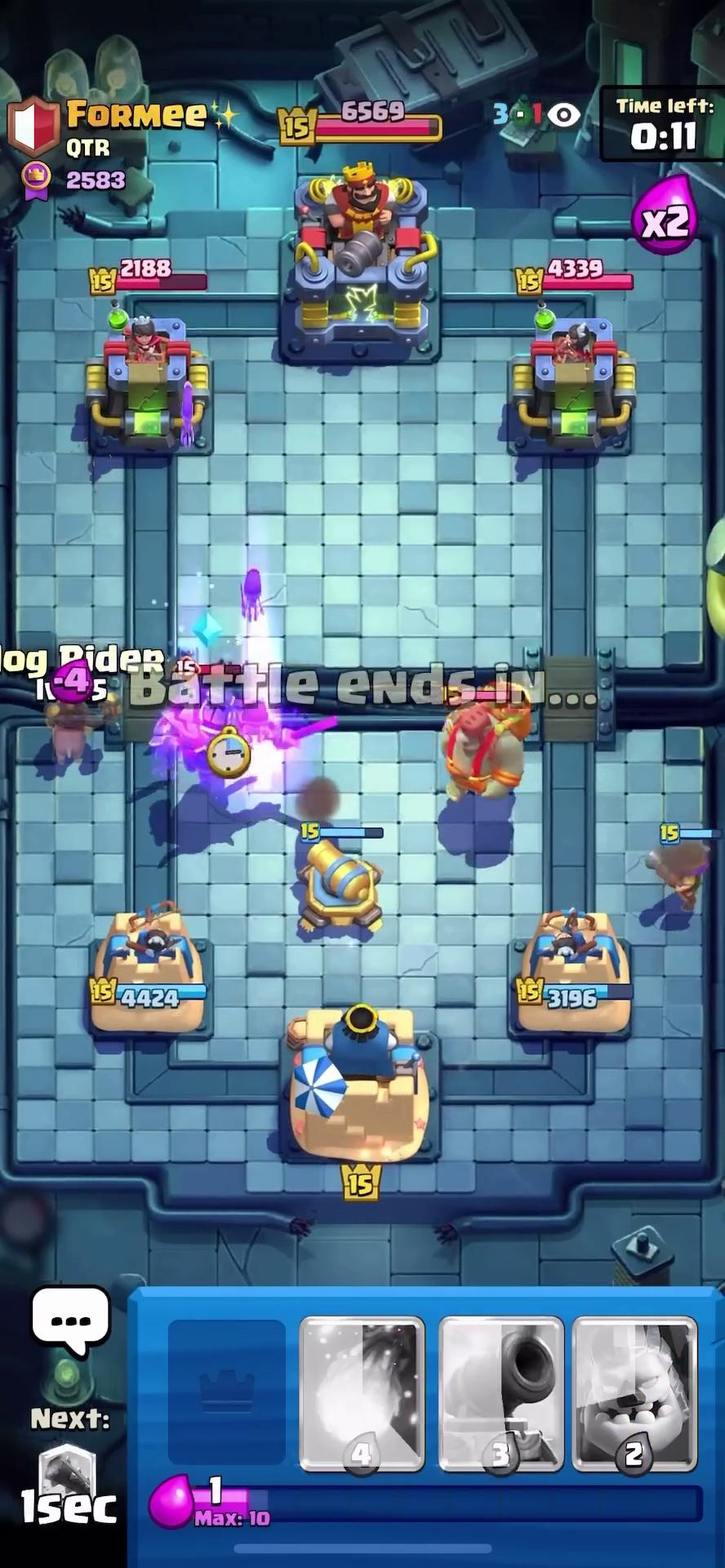cannon: (290, 802, 394, 933)
musketeer: (649, 800, 725, 915)
